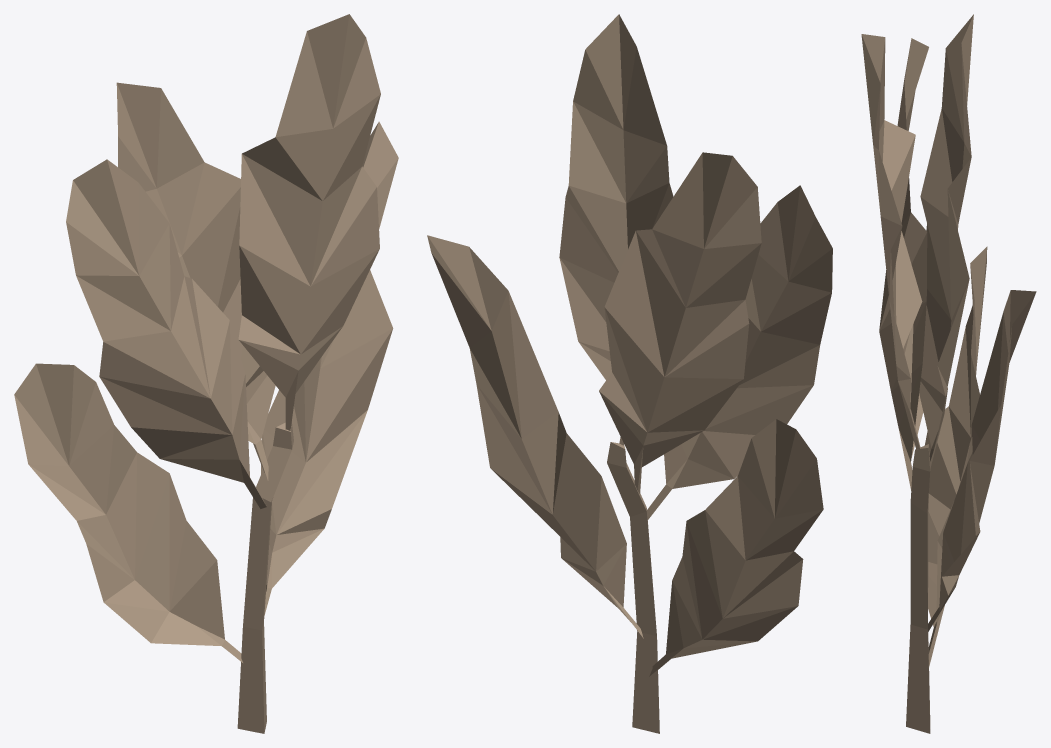
File: zone3-c23.glb
The picture shows the model from 3 angles, left to right: view 1: azimuth 30°, elevation 25°; view 2: azimuth 150°, elevation 25°; view 3: azimuth 270°, elevation 25°; orthographic projection. The views are drawn at different scales.
Visible parts, largest first — view 1: seaweed-seabeech-dead-b.001; view 2: seaweed-seabeech-dead-b.001; view 3: seaweed-seabeech-dead-b.001.
Boxes of the visible parts, x1=… form: seaweed-seabeech-dead-b.001: x1=14, y1=14, x2=398, y2=733; seaweed-seabeech-dead-b.001: x1=427, y1=14, x2=832, y2=733; seaweed-seabeech-dead-b.001: x1=861, y1=14, x2=1036, y2=733.
Size of the model in its own units: 21.02 by 36.45 by 7.99.
